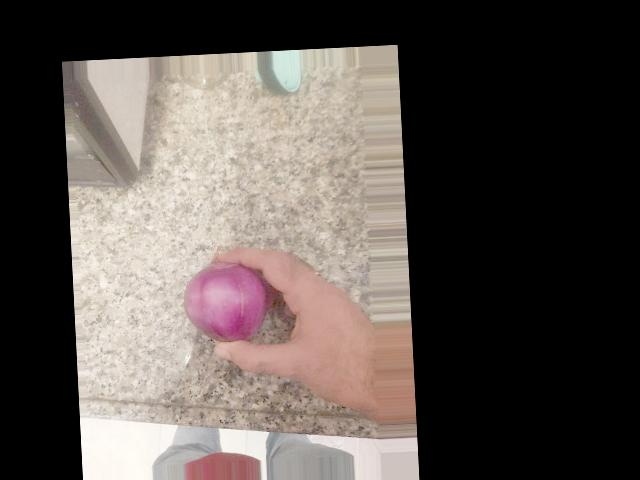onion: (182, 253, 263, 344)
